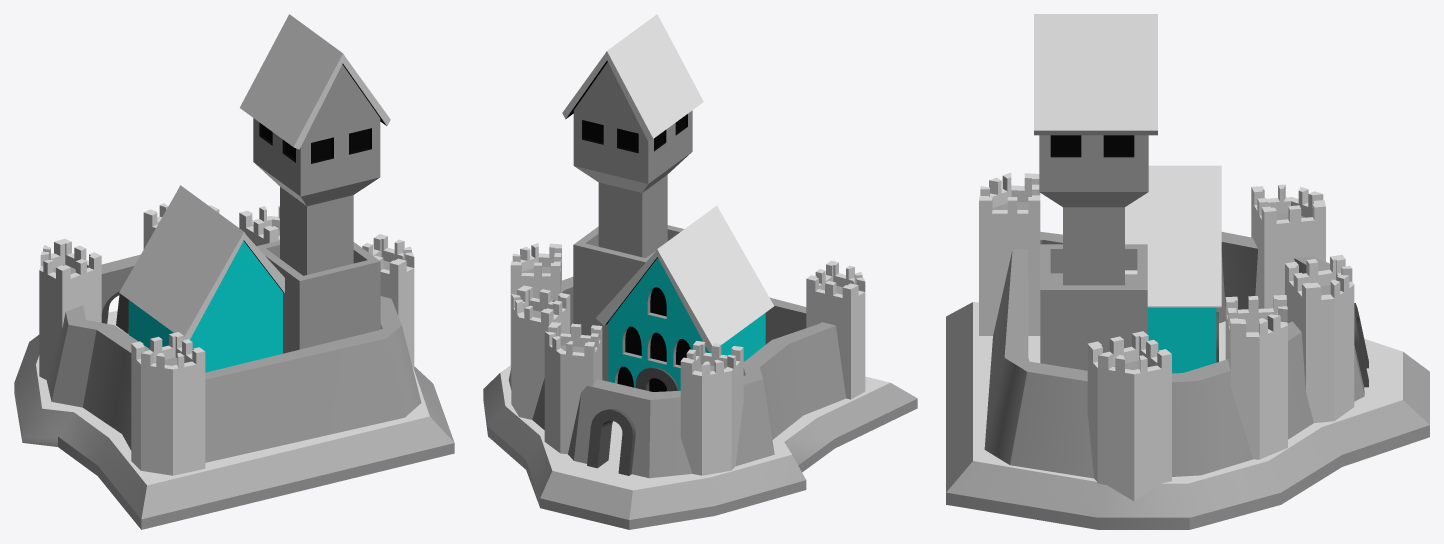
The model's file is Castle.fbx.
3 views of the same model, side by side, from view 1: azimuth 30°, elevation 25°; view 2: azimuth 150°, elevation 25°; view 3: azimuth 270°, elevation 25° (orthographic). The views are drawn at different scales.
Parts seen in each view (by area): view 1: pCube3, pCube1, pCube52, pCube54, pCube24, pCube35, pCube53, pCube25, pCube28, pCube27, pPipe1, pCube26; view 2: pCube1, pCube3, pCube52, pCube54, pCube35, pCube25, pCube53, pCube26, pCube24, pCube27, pCube28, pPipe1 (+1 smaller); view 3: pCube1, pCube3, pCube52, pCube53, pCube28, pCube54, pCube26, pCube27, pCube24, pCube25, pCube35, pPipe1.
Boxes of the visible parts, x1,y1,x2,y2 form: pCube3: [46, 254, 421, 462]; pCube1: [14, 310, 454, 529]; pCube52: [253, 64, 380, 353]; pCube54: [119, 185, 284, 339]; pCube24: [131, 332, 205, 475]; pCube35: [128, 241, 282, 372]; pCube53: [240, 14, 390, 149]; pCube25: [39, 238, 101, 379]; pCube28: [362, 234, 414, 367]; pCube27: [239, 205, 279, 245]; pPipe1: [101, 291, 128, 333]; pCube26: [143, 203, 219, 248]; pCube1: [483, 365, 917, 529]; pCube3: [508, 277, 846, 478]; pCube52: [573, 62, 692, 381]; pCube54: [596, 205, 773, 351]; pCube35: [608, 258, 765, 391]; pCube25: [680, 341, 743, 475]; pCube53: [562, 14, 703, 140]; pCube26: [544, 322, 602, 454]; pCube24: [806, 260, 865, 399]; pCube27: [511, 285, 570, 419]; pCube28: [510, 243, 561, 368]; pPipe1: [587, 409, 635, 475]; pCube1: [946, 302, 1429, 529]; pCube3: [984, 231, 1364, 478]; pCube52: [1039, 135, 1148, 370]; pCube53: [1034, 14, 1157, 135]; pCube28: [1087, 331, 1171, 501]; pCube54: [1125, 165, 1221, 307]; pCube26: [1285, 254, 1354, 422]; pCube27: [1225, 295, 1287, 459]; pCube24: [979, 172, 1040, 335]; pCube25: [1251, 184, 1325, 308]; pCube35: [1147, 307, 1216, 373]; pPipe1: [1354, 303, 1368, 387].
Bounding box in the file's own units: 17.72 × 18.46 × 18.
